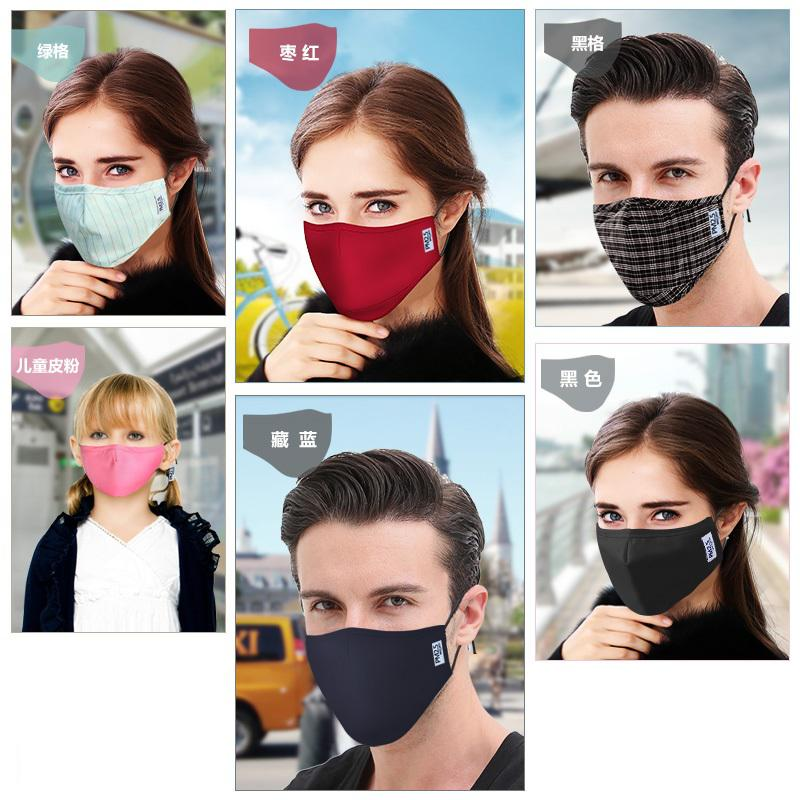OK: (300, 580, 466, 746), (587, 156, 731, 300), (301, 184, 430, 313), (591, 495, 711, 615), (49, 146, 167, 264), (78, 412, 161, 495)
